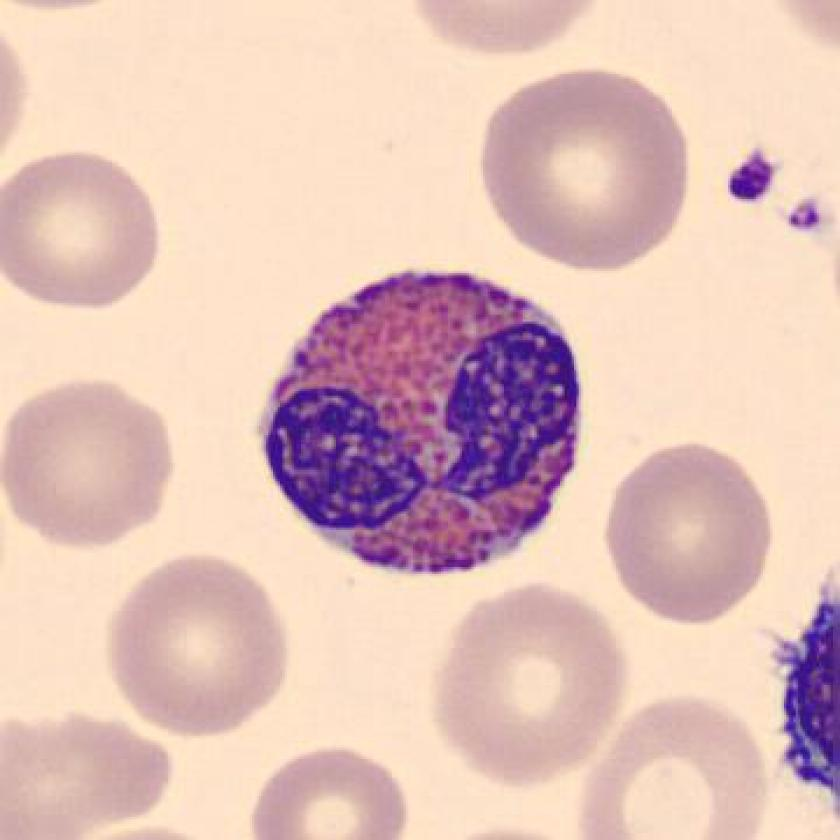eosinophil: (251, 258, 591, 593)
